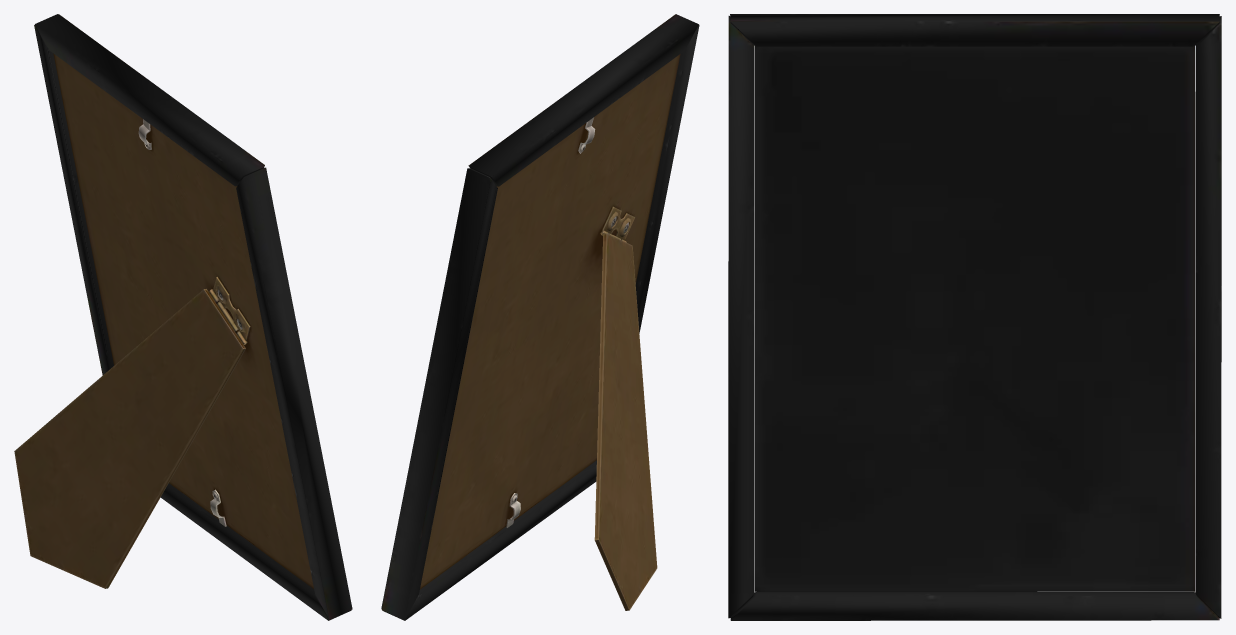
File: standing_picture_frame_01.glb
3 views of the same model, side by side, from view 1: azimuth 30°, elevation 25°; view 2: azimuth 150°, elevation 25°; view 3: azimuth 270°, elevation 25° (orthographic). The views are drawn at different scales.
Parts seen in each view (by area): view 1: standing_picture_frame_01; view 2: standing_picture_frame_01; view 3: standing_picture_frame_01.
Part boxes in pixels (<box>): standing_picture_frame_01: <box>14,14,352,620</box>; standing_picture_frame_01: <box>381,14,699,620</box>; standing_picture_frame_01: <box>728,14,1221,620</box>.
Size of the model in its own units: 0.1003 by 0.2496 by 0.2004.
3 materials, 3 textured.
